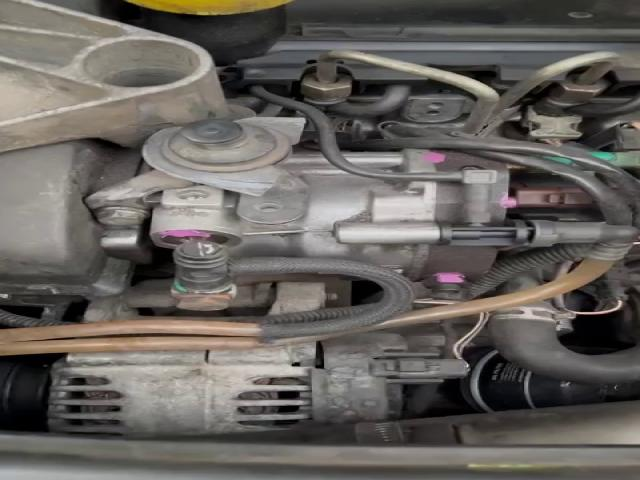alternator: (51, 343, 316, 435)
high_pressure_pump: (150, 149, 532, 295)
